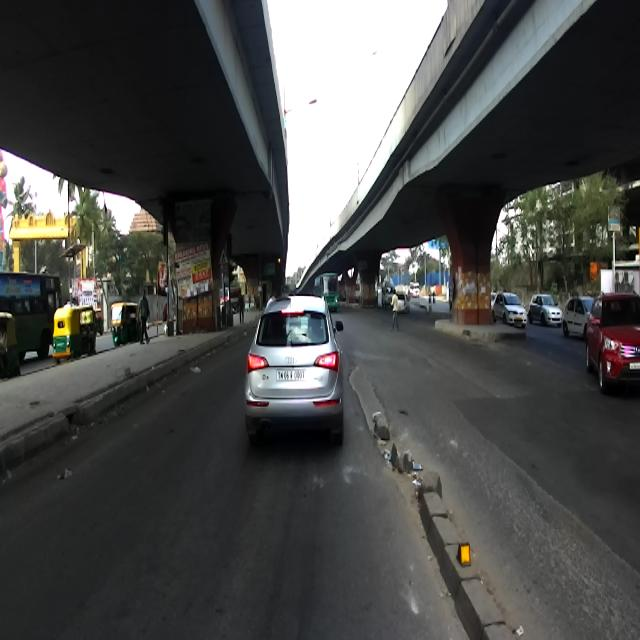car ahead at: (244, 283, 347, 453)
